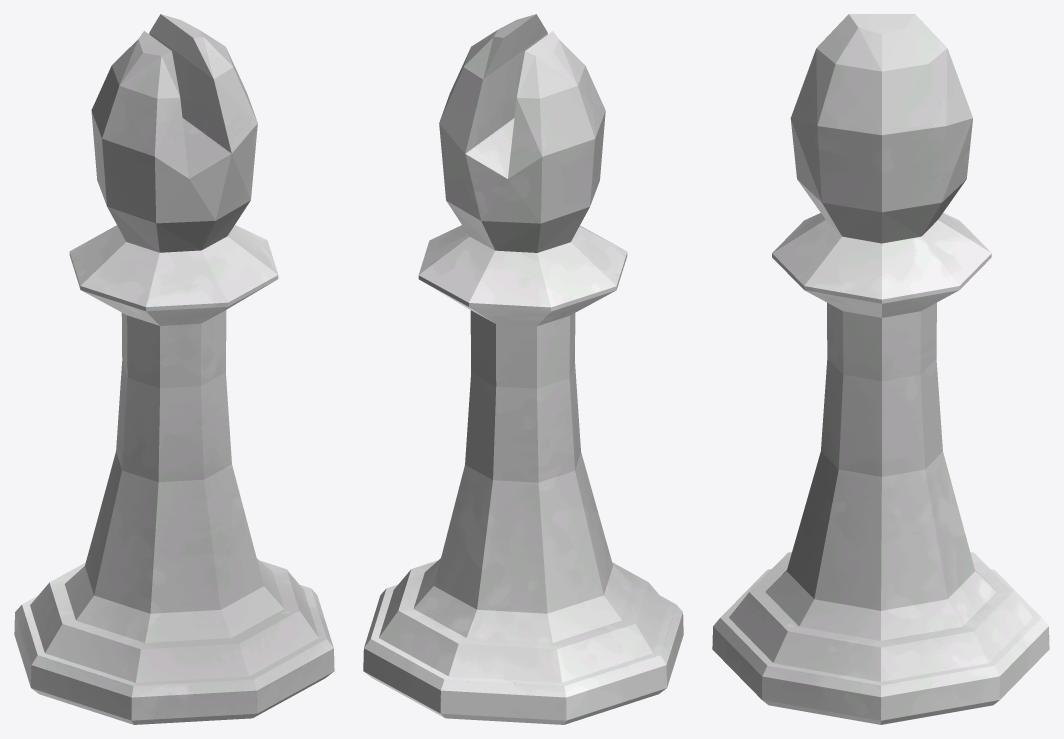
The model's file is Bishop.fbx.
3 views of the same model, side by side, from view 1: azimuth 30°, elevation 25°; view 2: azimuth 150°, elevation 25°; view 3: azimuth 270°, elevation 25° (orthographic).
Visible parts, largest first — view 1: node_id28; view 2: node_id28; view 3: node_id28.
Boxes of the visible parts, x1,y1,x2,y2 form: node_id28: [14, 14, 334, 724]; node_id28: [363, 14, 683, 724]; node_id28: [712, 14, 1049, 724].
Size of the model in its own units: 229 by 483 by 229.
